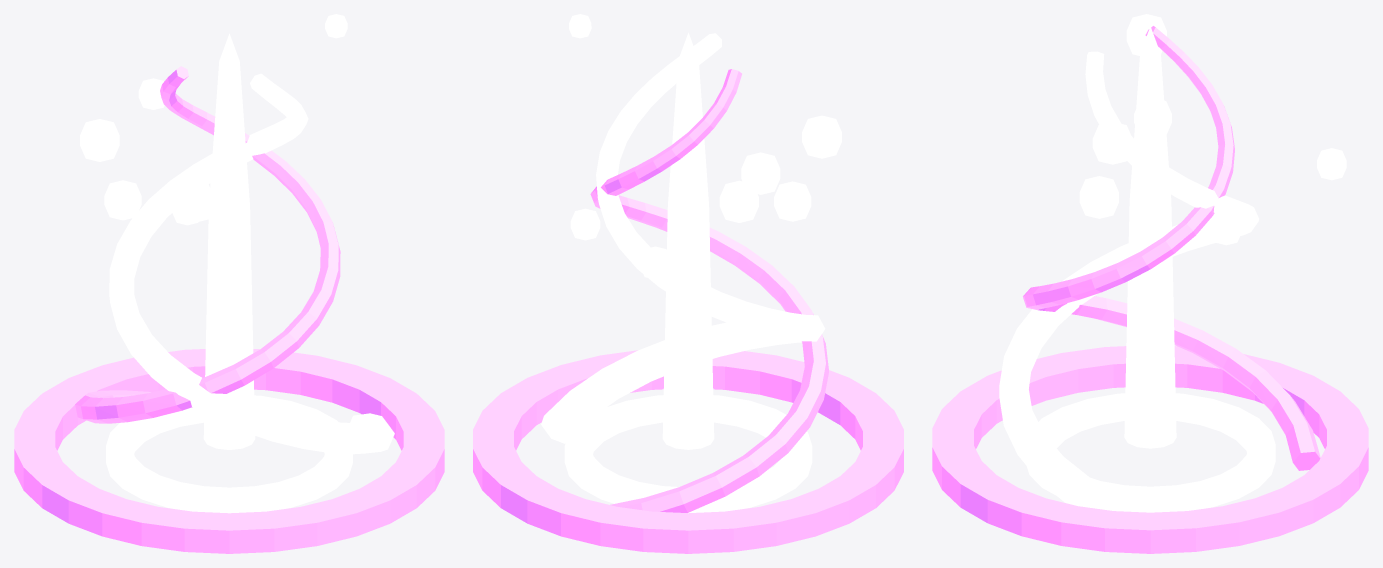
The model's file is vfx-mesh-library-recall-helix-bd94cb7f__21907.glb.
3 renders of one model, left to right at view 1: azimuth 30°, elevation 25°; view 2: azimuth 150°, elevation 25°; view 3: azimuth 270°, elevation 25°, orthographic.
Visible parts, largest first — view 1: recall-helix; view 2: recall-helix; view 3: recall-helix.
Boxes of the visible parts, <box> form: recall-helix: <box>14,14,444,553</box>; recall-helix: <box>473,14,903,553</box>; recall-helix: <box>932,14,1368,553</box>.
Size of the model in its own units: 0.84 by 0.9484 by 0.8354.
